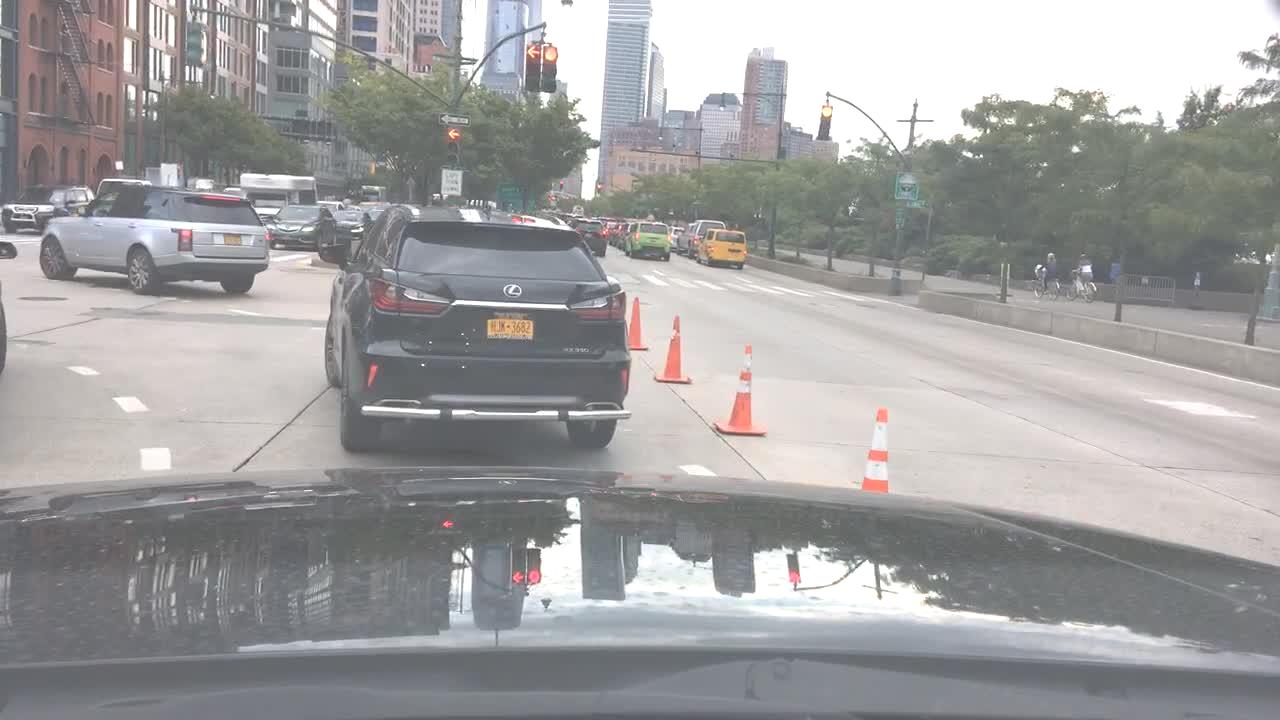lexus: (493, 278, 528, 303)
